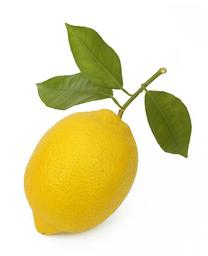lemon: (24, 110, 138, 235)
